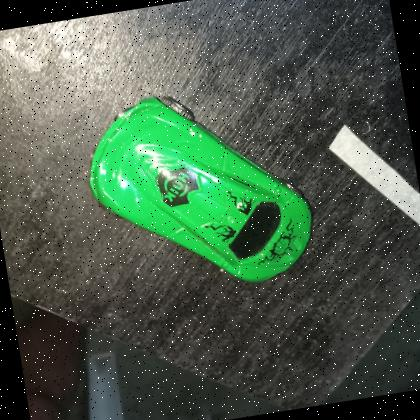Car: (76, 74, 323, 308)
